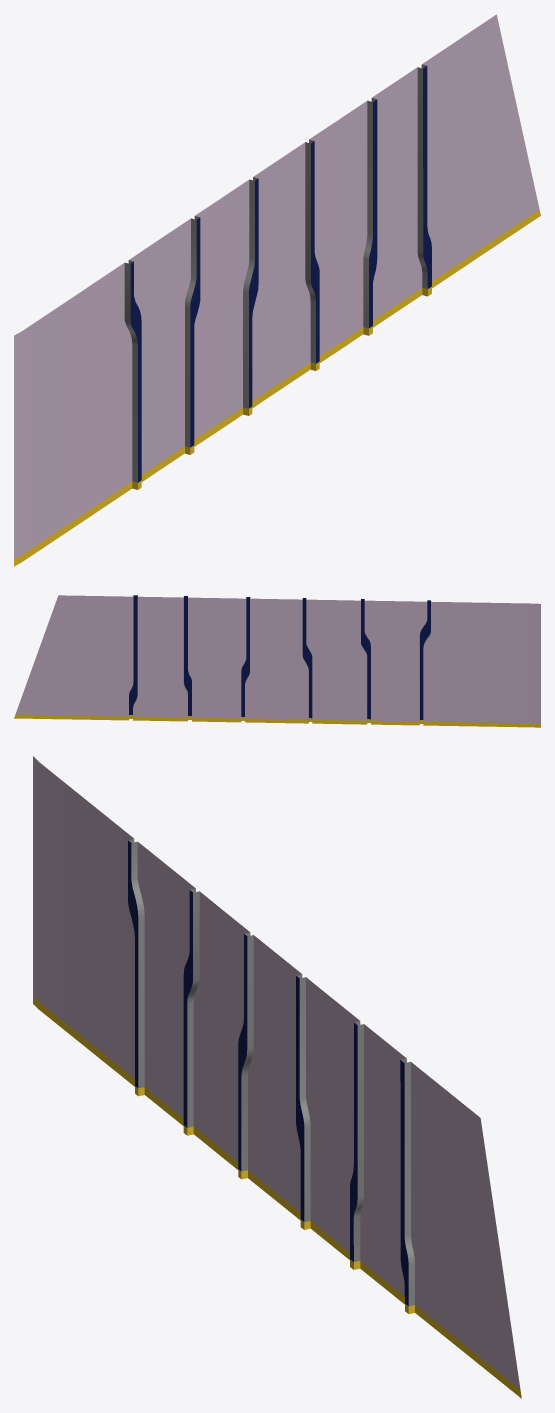
The model's file is CD_JZ_vr_wall04.FBX.
The picture shows the model from 3 angles, top to bottom: view 1: azimuth 30°, elevation 25°; view 2: azimuth 150°, elevation 25°; view 3: azimuth 270°, elevation 25°; orthographic projection. The views are drawn at different scales.
Visible parts, largest first — view 1: CD_JZ_vr_wall04; view 2: CD_JZ_vr_wall04; view 3: CD_JZ_vr_wall04.
Part boxes in pixels (x1=…): CD_JZ_vr_wall04: x1=14, y1=14, x2=540, y2=566; CD_JZ_vr_wall04: x1=14, y1=595, x2=540, y2=727; CD_JZ_vr_wall04: x1=33, y1=756, x2=521, y2=1398.
Bounding box in the file's own units: 2097 × 613 × 1096.
